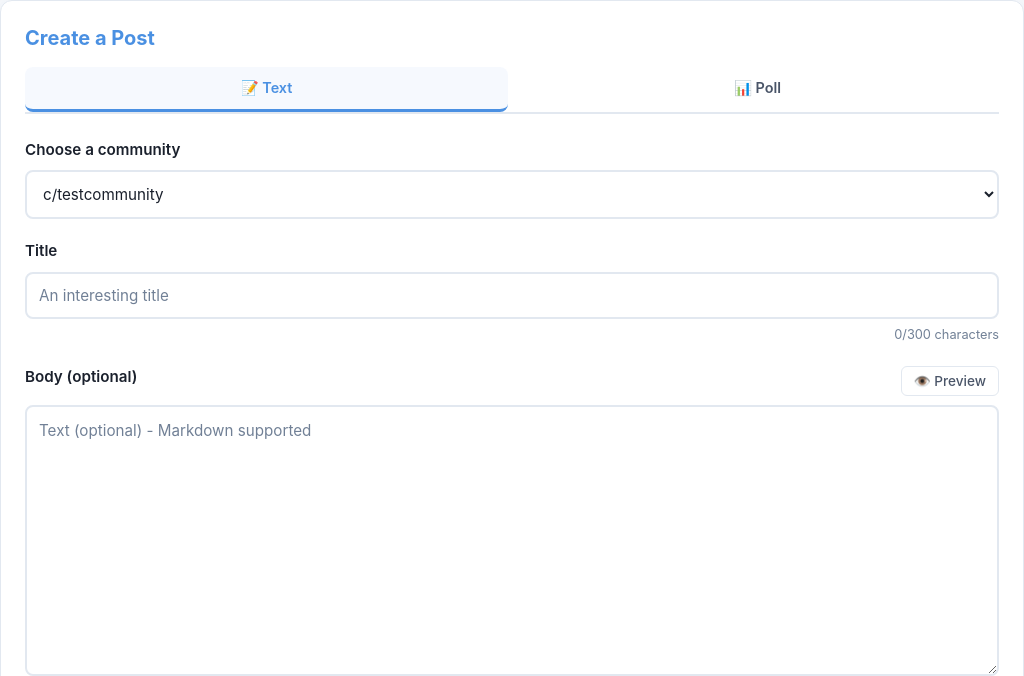
Test: CreatePostForm Component › should add poll options
Click the button "📊 Poll" at (758, 90), box [516, 67, 999, 112]
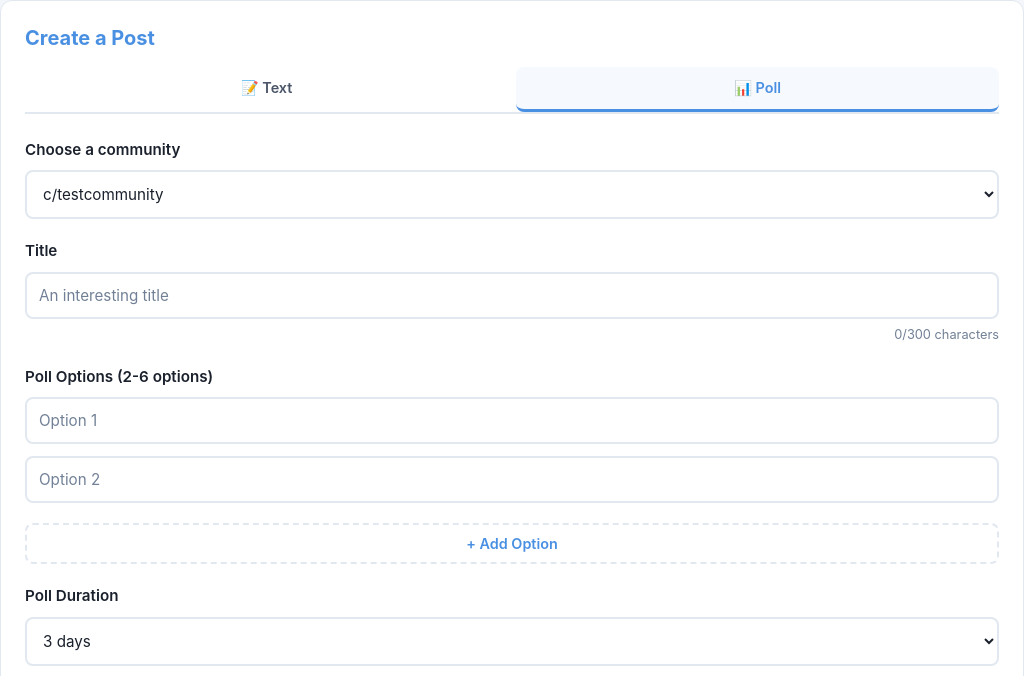
Now the field with placeholder "Option 1" is shown, box [25, 397, 999, 444]
Now the field with placeholder "Option 2" is shown, box [25, 456, 999, 503]
Note: Add option
Click the button "+ Add Option" at (512, 544), box [25, 523, 999, 564]
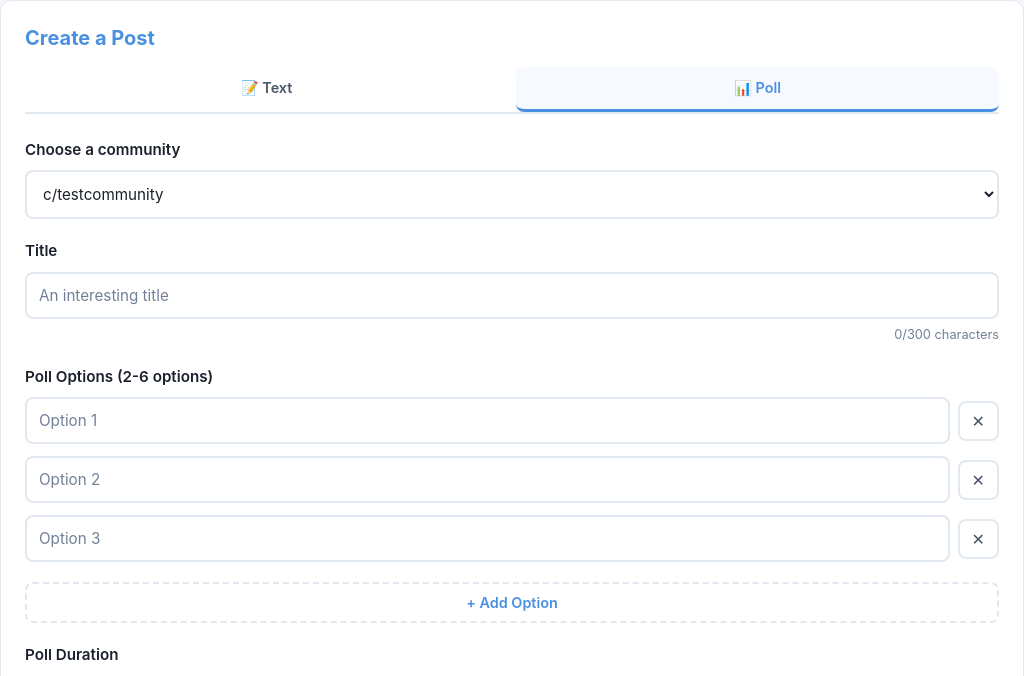
Now the field with placeholder "Option 3" is shown, box [25, 515, 950, 562]
